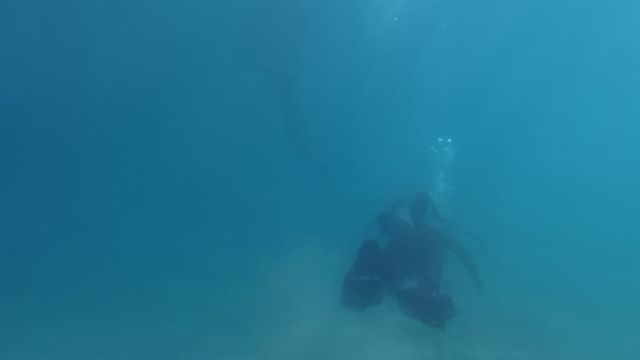Diver: (336, 157, 490, 347)
